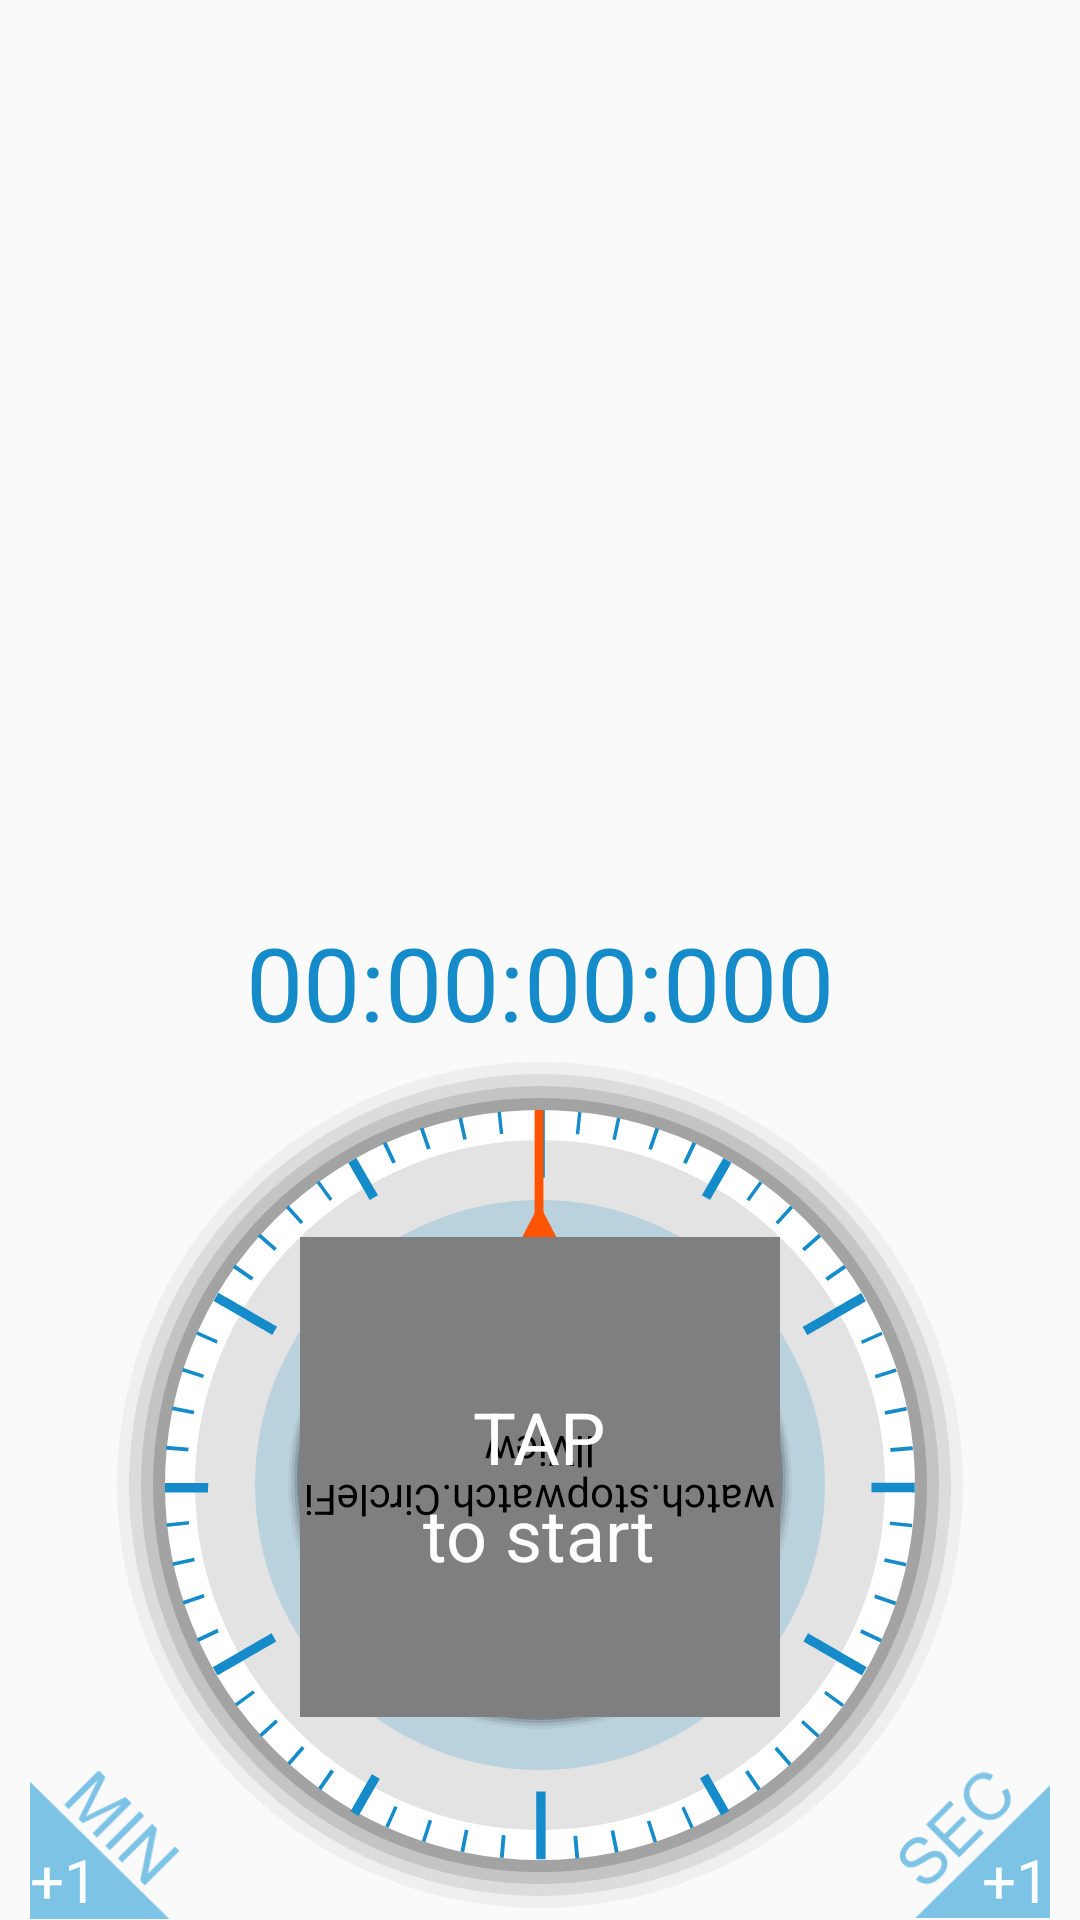

Where to tap for icons on this 1080px×1920px app screen, as [x,y]:
add: [104,1845]
